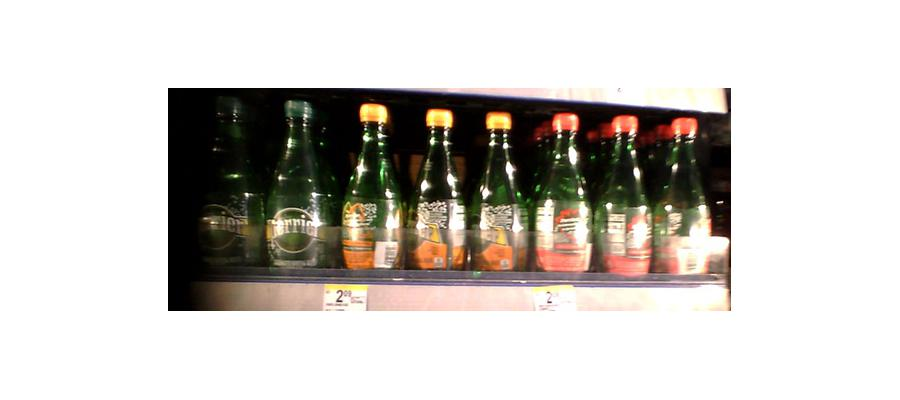bottle: (266, 92, 330, 275), (339, 103, 401, 280), (204, 97, 263, 273), (532, 110, 591, 278), (596, 110, 651, 283), (469, 114, 527, 278), (654, 115, 711, 280), (408, 109, 462, 272)
